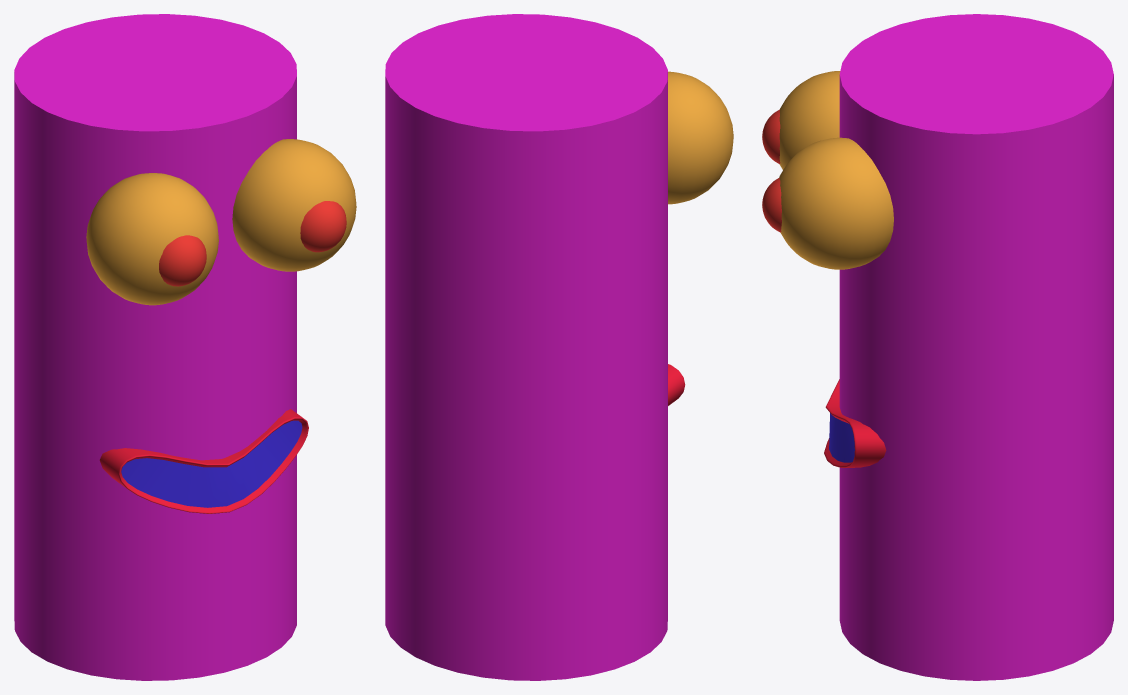
The picture shows the model from 3 angles, left to right: view 1: azimuth 30°, elevation 25°; view 2: azimuth 150°, elevation 25°; view 3: azimuth 270°, elevation 25°; orthographic projection.
Visible parts, largest first — view 1: PAGR, DETAILS; view 2: PAGR, DETAILS; view 3: PAGR, DETAILS.
Boxes of the visible parts, x1,y1,x2,y2 form: PAGR: [14, 14, 296, 680]; DETAILS: [86, 139, 356, 513]; PAGR: [385, 14, 667, 680]; DETAILS: [668, 71, 733, 405]; PAGR: [839, 14, 1113, 680]; DETAILS: [762, 71, 893, 467].
Size of the model in its own units: 104 by 216 by 126.
